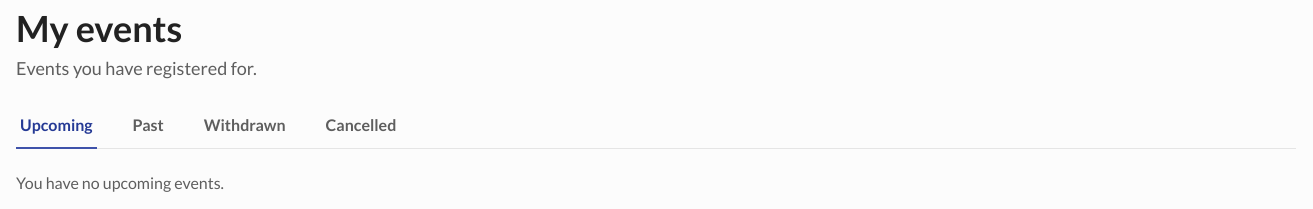
Test: AttendeeEventsView › shows an empty state for a tab with no events
The width and height of the screenshot is (1313, 209).
What coordinates should you click on to do the following:
click the tab "Past"
I would click on:
 (148, 126)
Its box is [129,103,168,149].
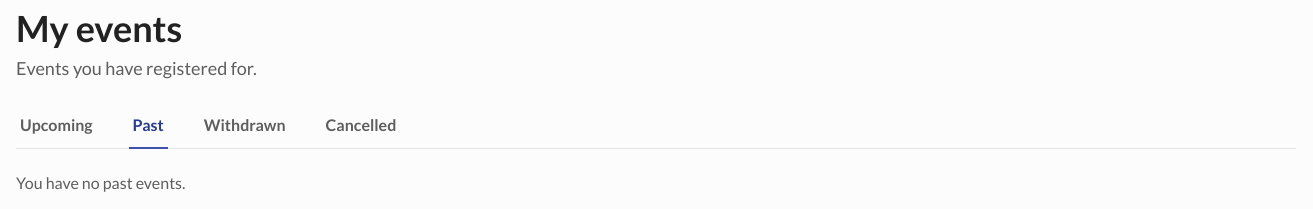
Result: the text "You have no past events." is shown at [16,173,186,192]
What coordinates should you click on to do the following:
click the tab "Withdrawn"
I would click on:
 (245, 126)
Its box is [200,103,290,149].
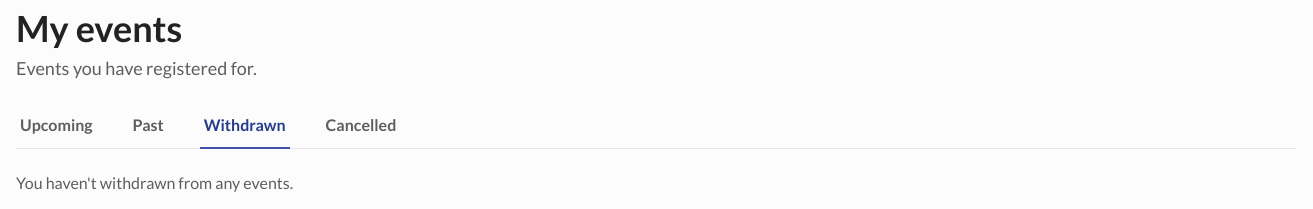
Result: the text "You haven't withdrawn from any events." is shown at [16,173,293,192]
